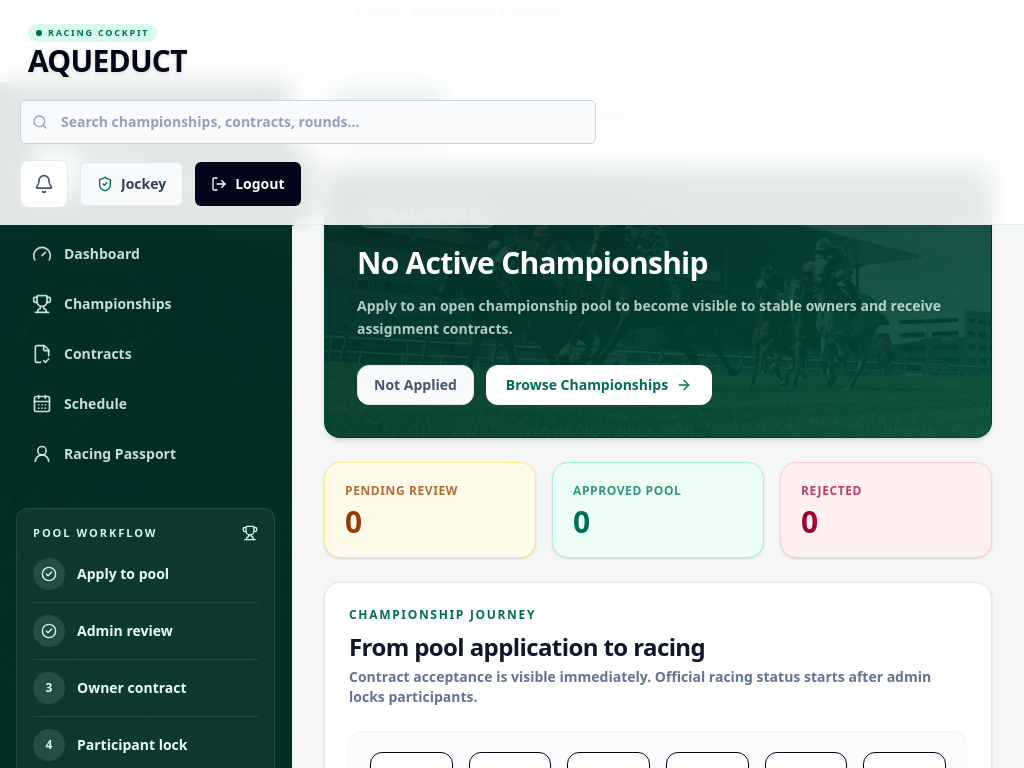
JockeyChampionshipsPage › submits a championship pool application through the API
The width and height of the screenshot is (1024, 768).
(page scrolled)
Click the button "Browse Championships": click(599, 384) [486,364,712,404]
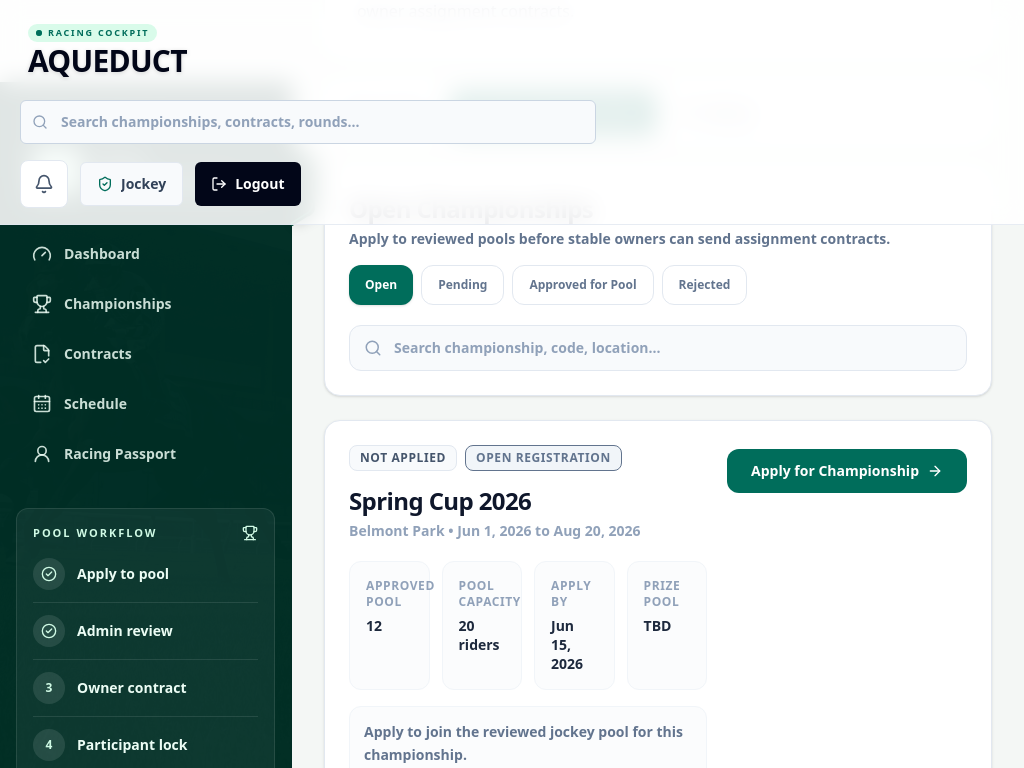
Click the button with aria-label "apply for championship spring cup 2026": click(847, 470) [727,448,967,492]
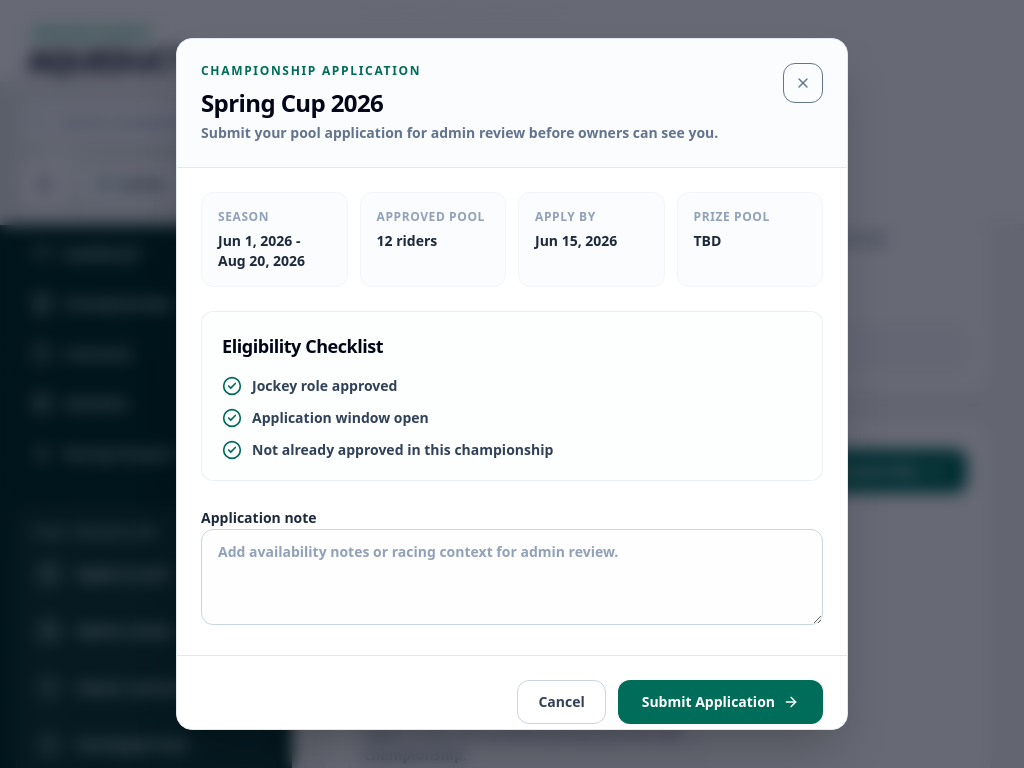
In the text box labelled "Application note": (512, 577) [201,529,823,625], type "Available for all championship rounds."
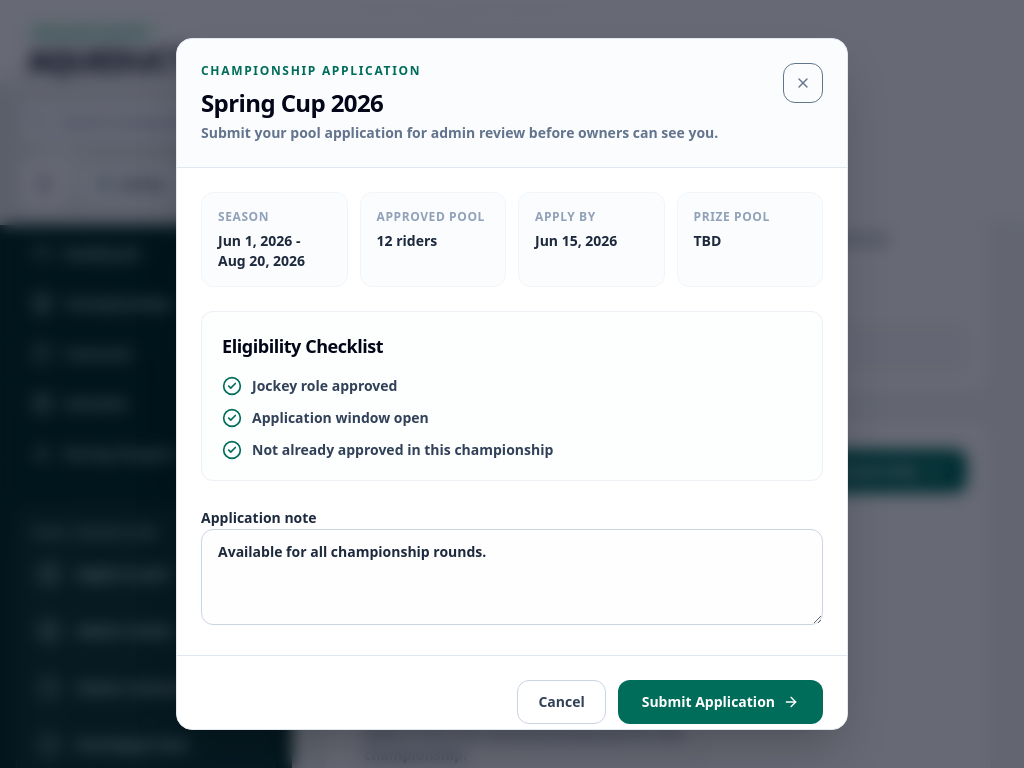
Click the button "Submit Application": click(720, 702) [618,680,823,724]
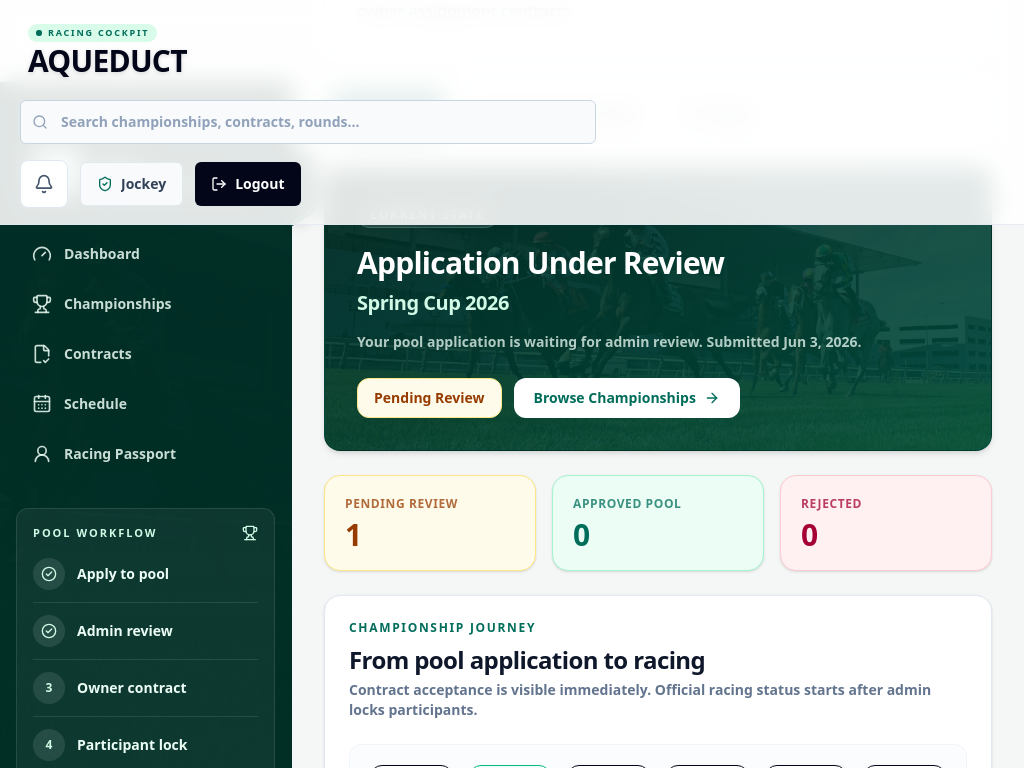
Result: the heading "Application Under Review" is shown at [357,242,724,282]
Result: the text "Pending Review" below "Spring Cup 2026" is shown at [374,388,484,407]
